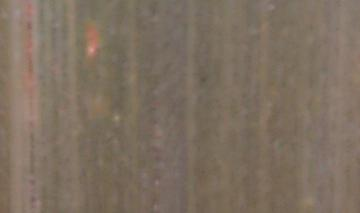tarspot: (28, 194, 37, 209), (23, 20, 35, 31), (28, 177, 37, 188), (200, 74, 208, 84)
